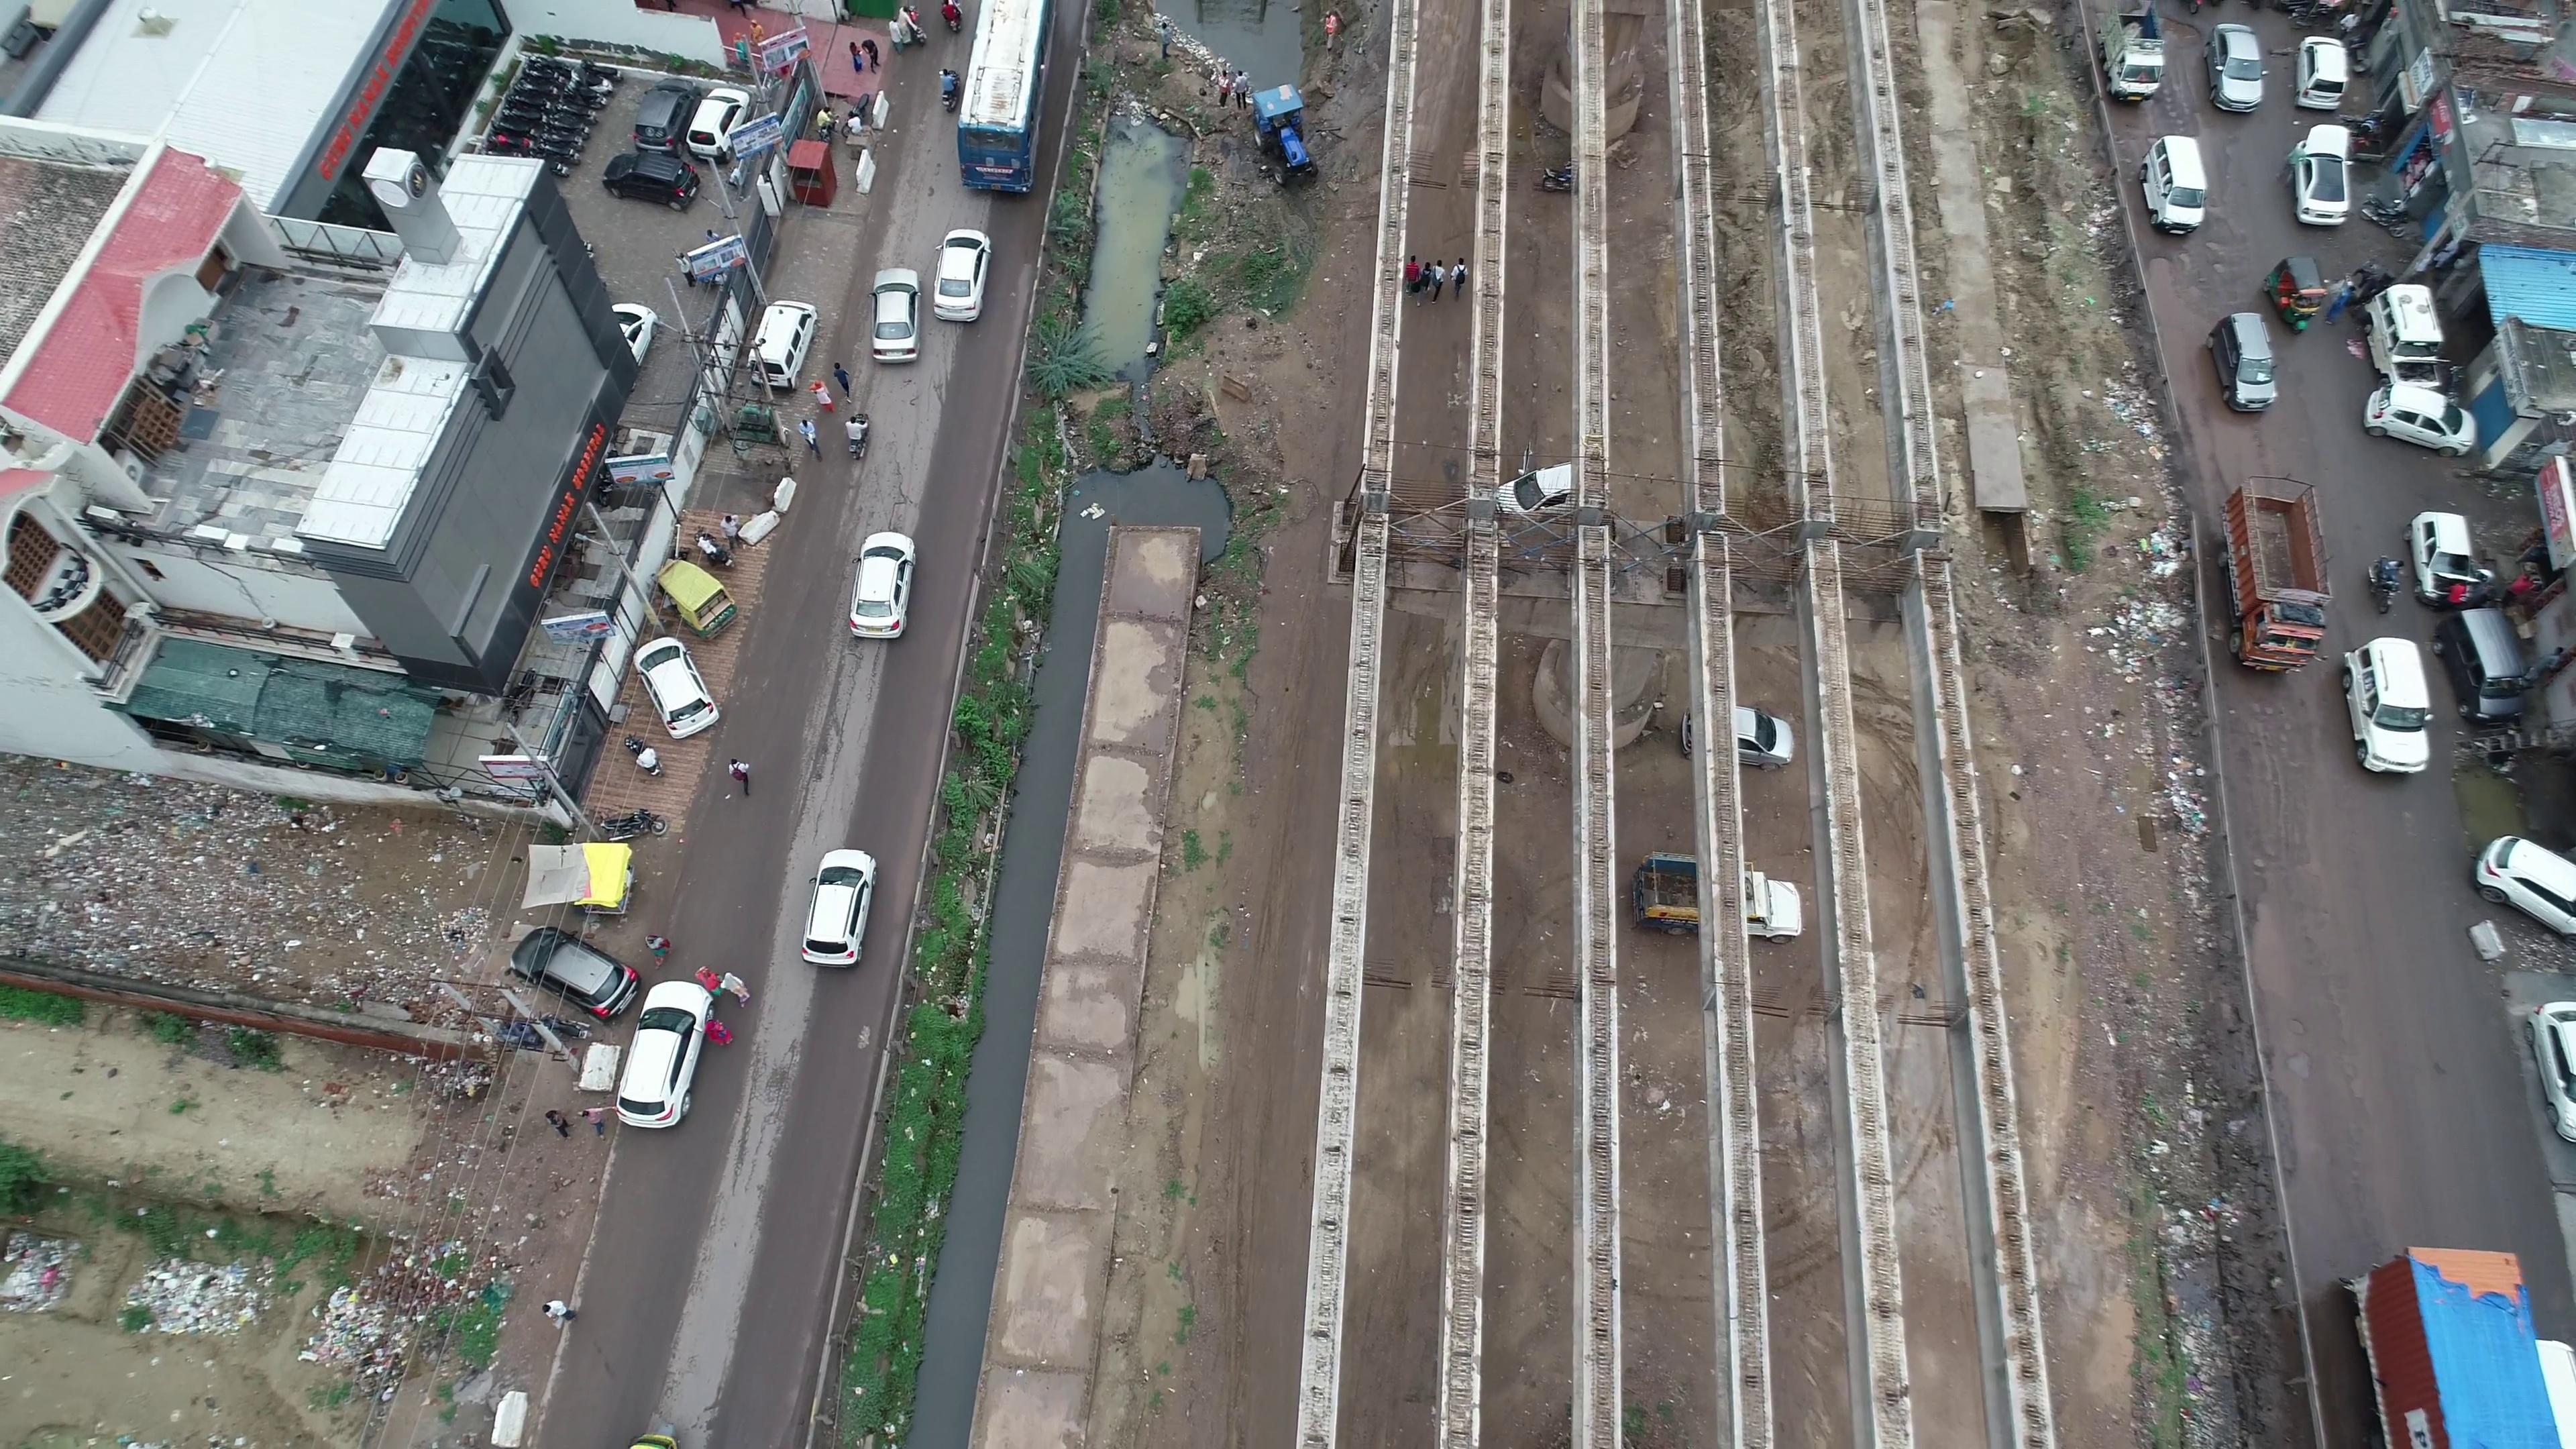Potholes: (2258, 982, 2365, 1108), (2169, 249, 2243, 294), (2160, 81, 2199, 142)
